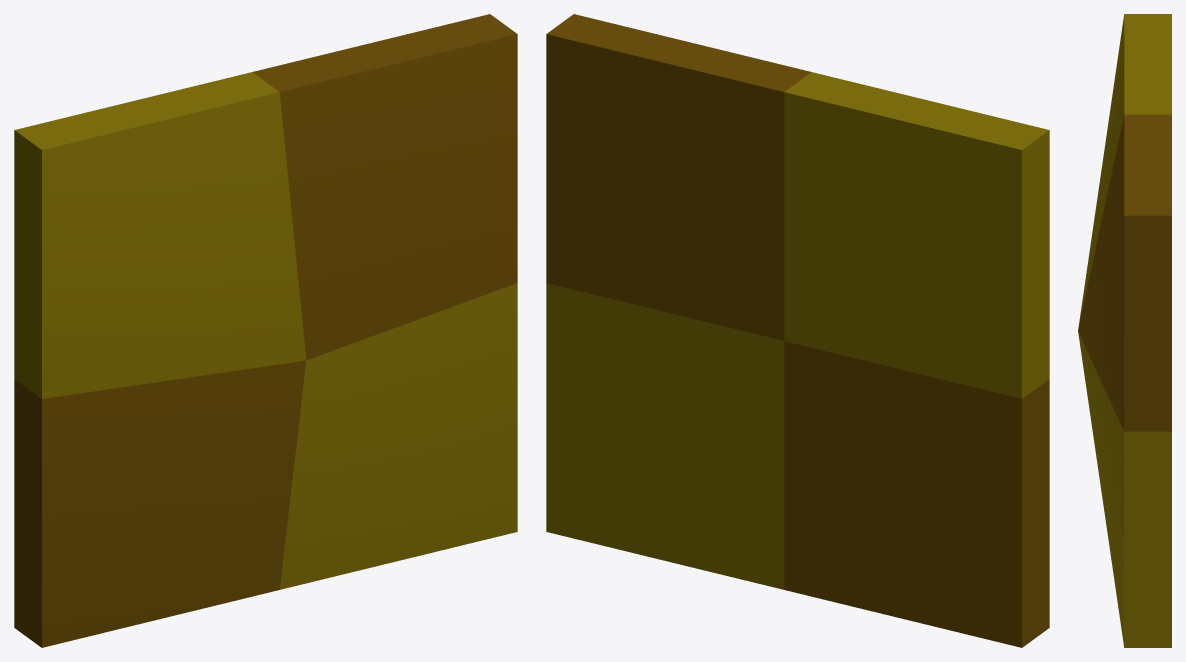
Rendered from RectCookie.fbx.
The picture shows the model from 3 angles, left to right: view 1: azimuth 30°, elevation 25°; view 2: azimuth 150°, elevation 25°; view 3: azimuth 270°, elevation 25°; orthographic projection. The views are drawn at different scales.
Parts seen in each view (by area): view 1: pCube1; view 2: pCube1; view 3: pCube1.
Part boxes in pixels (x1=…): pCube1: x1=14, y1=14, x2=517, y2=647; pCube1: x1=546, y1=14, x2=1049, y2=647; pCube1: x1=1078, y1=14, x2=1171, y2=647.
Bounding box in the file's own units: 100 × 100 × 19.69.
